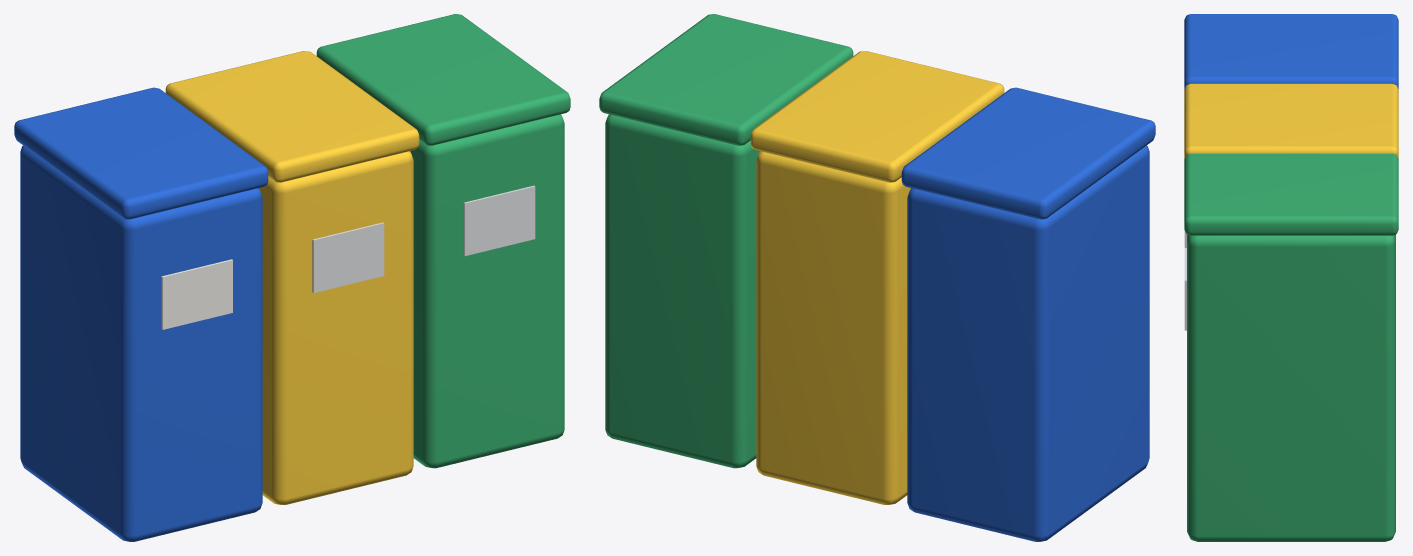
Rendered from TrashBins.fbx.
3 views of the same model, side by side, from view 1: azimuth 30°, elevation 25°; view 2: azimuth 150°, elevation 25°; view 3: azimuth 270°, elevation 25° (orthographic). The views are drawn at different scales.
Visible parts, largest first — view 1: TrashBinsBody; view 2: TrashBinsBody; view 3: TrashBinsBody.
Boxes of the visible parts, <box> form: TrashBinsBody: <box>14,14,570,541</box>; TrashBinsBody: <box>599,14,1155,541</box>; TrashBinsBody: <box>1184,14,1398,541</box>.
Size of the model in its own units: 0.89 by 0.66 by 0.39.
